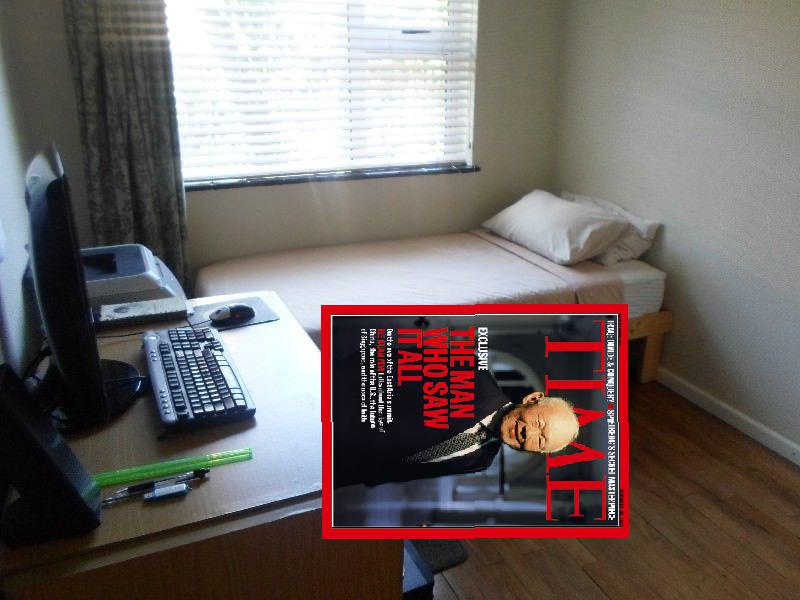times: (320, 300, 630, 540)
